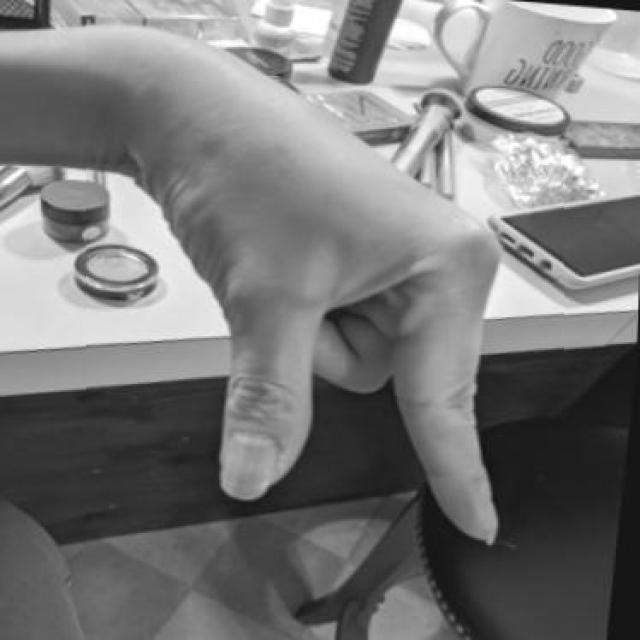Q: (86, 20, 564, 554)
